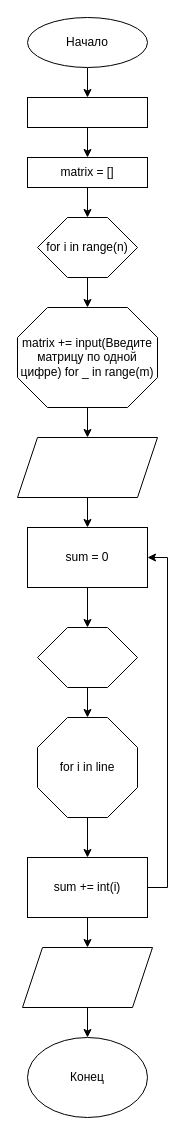
Some shapes in this 193 by 1135 pixel diagram are drawn without their labels. The shapes that lost their labels are listed below. From the top down, each one's box as (x1, y1, x2, y2) in pixels, then its label:
(26, 96, 148, 128): n, m = (5, 4)
(16, 436, 158, 498): Вывод: Матрица с суммой элементов:
(36, 626, 138, 688): for line in matrix
(22, 946, 152, 1008): Вывод: *line, sum
